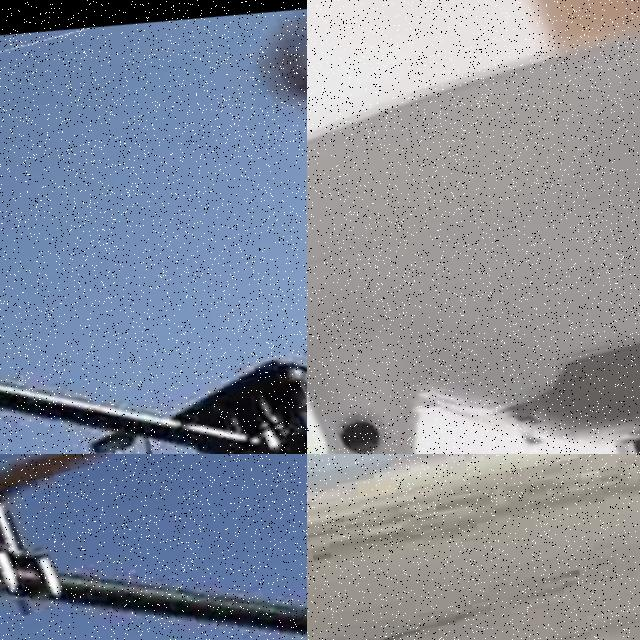0: (0, 0, 307, 454), (0, 454, 307, 640)
drone: (307, 0, 640, 454)
